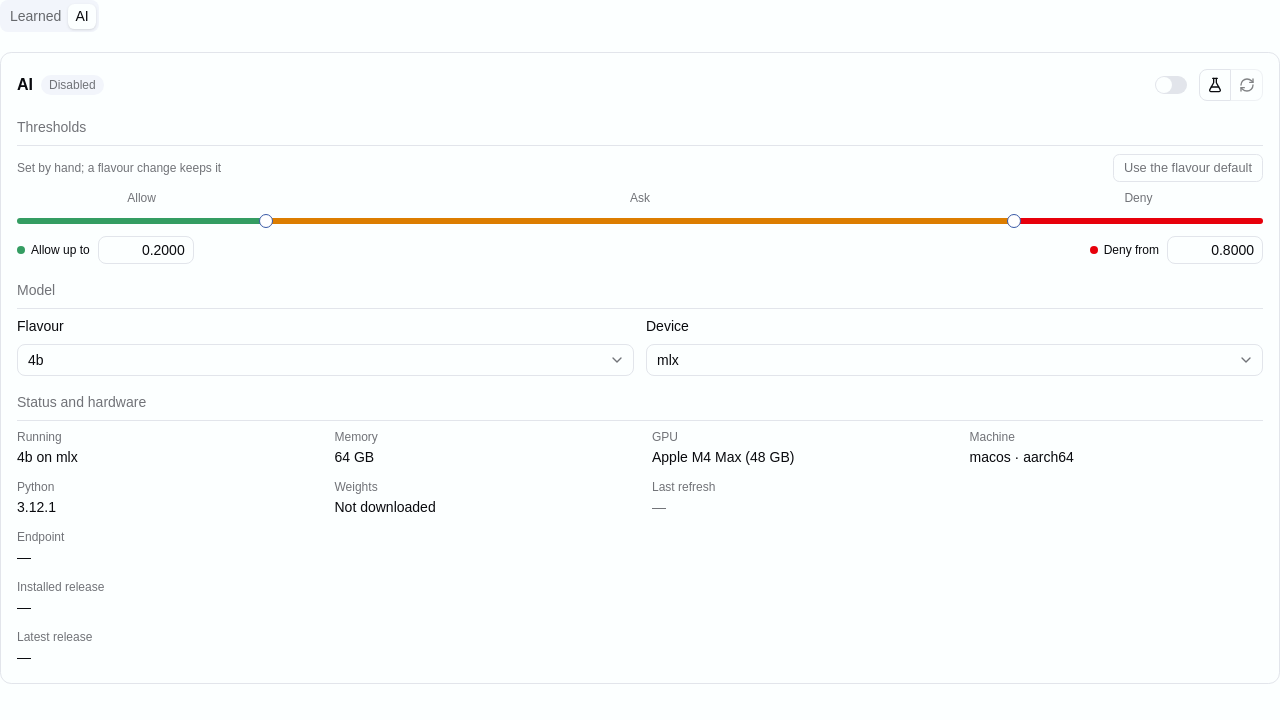
Test case: opens the test dialog from the header's Test a request button
This screenshot has width=1280, height=720.
Click the button named "Test a request".
click(1215, 85)  # box [1199,69,1231,101]
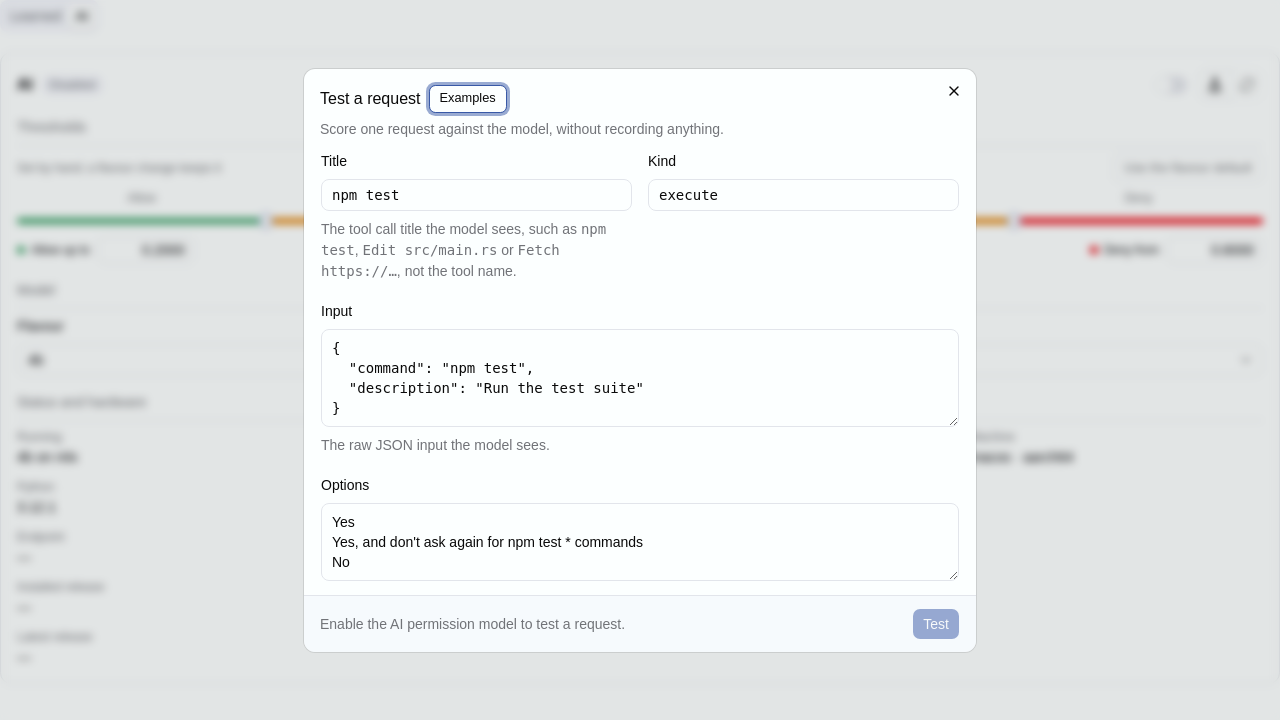
expect the dialog is shown: met, box [304,68,976,652]
